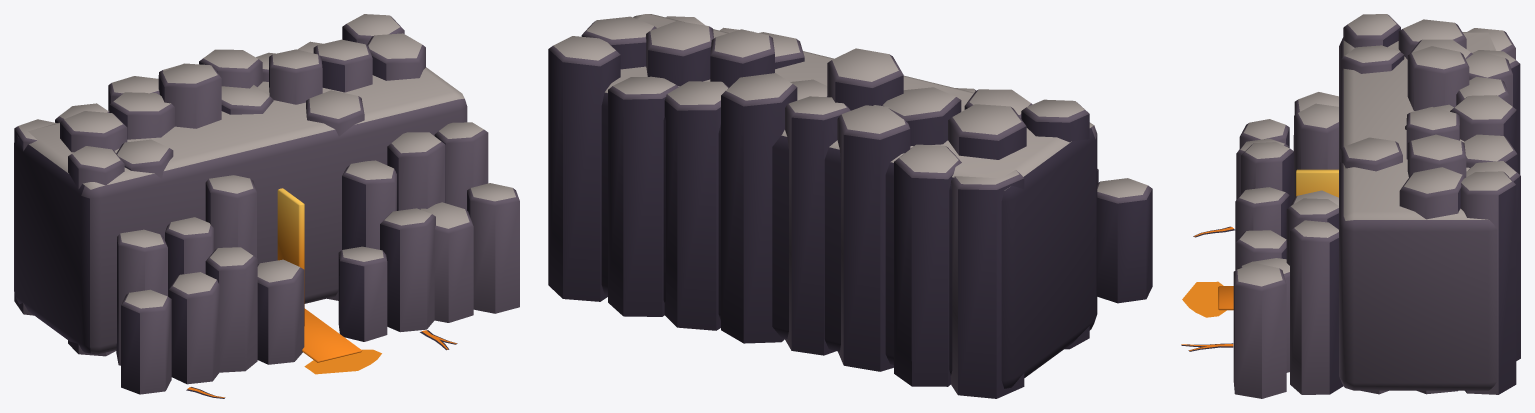
Rendered from BasaltRimB.fbx.
3 renders of one model, left to right at view 1: azimuth 30°, elevation 25°; view 2: azimuth 150°, elevation 25°; view 3: azimuth 270°, elevation 25°, orthographic. The views are drawn at different scales.
Parts seen in each view (by area): view 1: BasaltRimB; view 2: BasaltRimB; view 3: BasaltRimB.
Part boxes in pixels (x1=…): BasaltRimB: x1=14, y1=14, x2=519, y2=398; BasaltRimB: x1=548, y1=14, x2=1152, y2=398; BasaltRimB: x1=1181, y1=14, x2=1520, y2=398.
Size of the model in its own units: 7.72 by 4.13 by 5.69.
2 materials, 2 textured.
